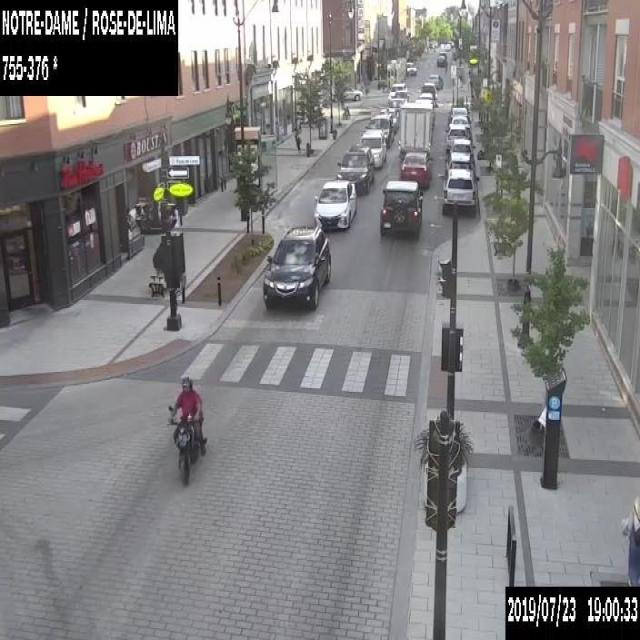vehicle: (262, 223, 329, 308), (167, 379, 206, 485), (379, 179, 423, 238), (313, 179, 355, 229), (336, 144, 373, 193), (398, 102, 432, 155), (440, 168, 479, 211), (356, 127, 386, 167), (400, 151, 433, 187), (364, 113, 393, 146), (444, 124, 470, 150), (446, 150, 474, 170), (446, 137, 475, 153), (380, 107, 398, 131), (448, 106, 470, 124), (388, 82, 407, 100), (341, 86, 362, 100), (448, 116, 469, 130), (421, 81, 436, 100), (390, 90, 409, 105), (427, 73, 443, 89), (418, 92, 434, 106), (388, 97, 403, 110), (404, 61, 416, 76), (436, 50, 447, 65)
